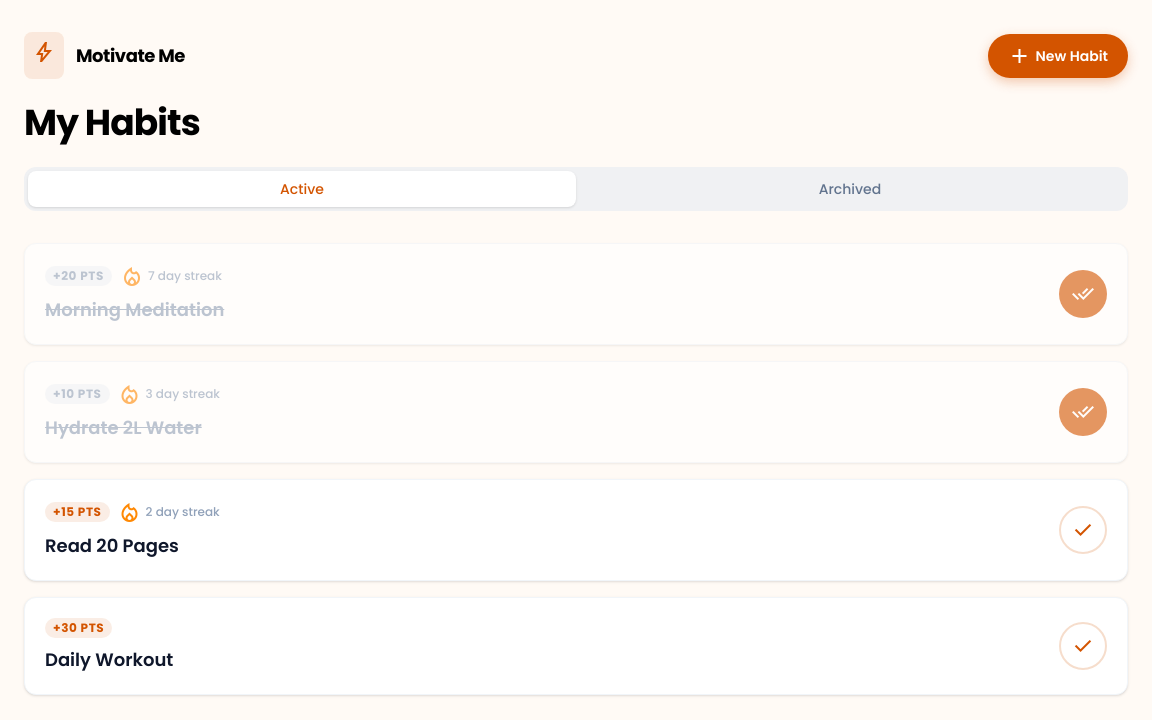
Test case: HabitList › shows empty state on archived tab when no archived habits
Step 1. Click the button "archived" → (850, 189), box [576, 171, 1124, 207]
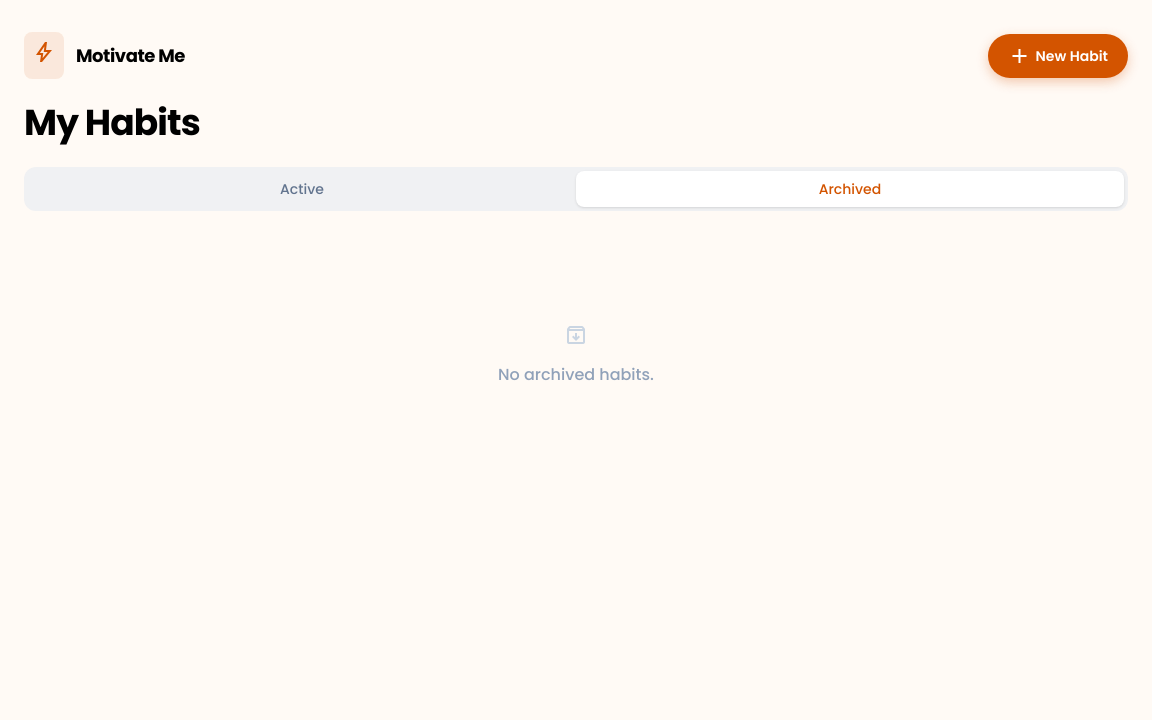
Now the text "No archived habits." is shown, box [498, 363, 654, 387]
